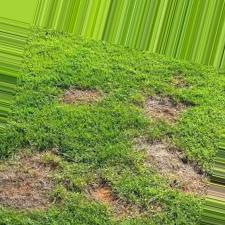patch: (1, 149, 111, 213), (126, 140, 205, 191), (148, 92, 186, 123), (68, 87, 101, 109), (173, 73, 191, 88)
